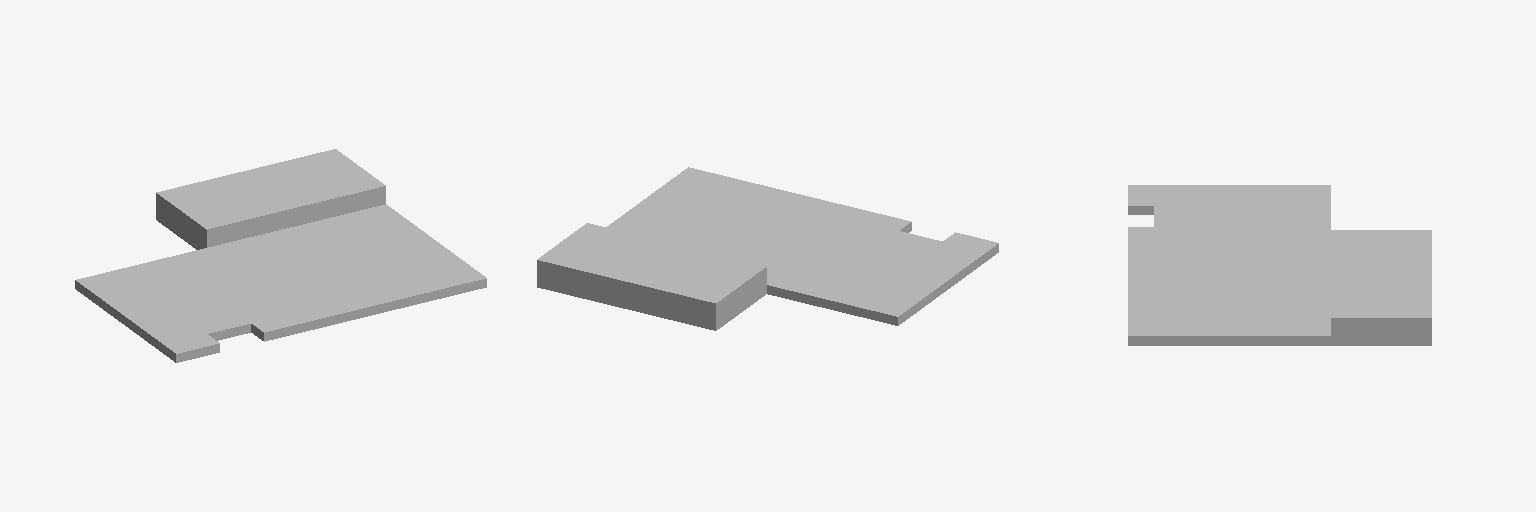
The picture shows the model from 3 angles: view 1: azimuth 30°, elevation 25°; view 2: azimuth 150°, elevation 25°; view 3: azimuth 270°, elevation 25°; orthographic projection.
Visible parts, largest first — view 1: base_Cube.068; view 2: base_Cube.068; view 3: base_Cube.068.
Part boxes in pixels (x1,y1,x2,y2): base_Cube.068: (75,149,486,362); base_Cube.068: (537,167,998,330); base_Cube.068: (1128,185,1431,345).
Size of the model in its own units: 71 by 6 by 60.